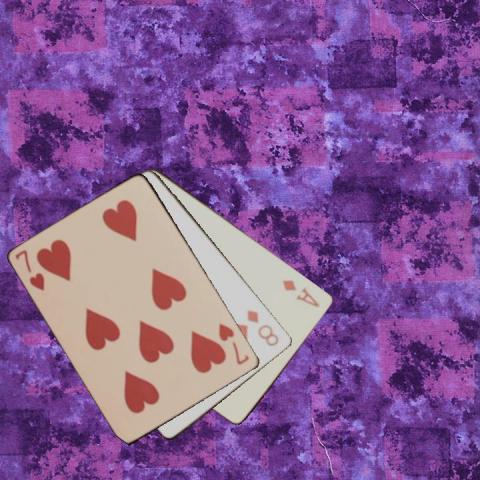7h: (216, 320, 251, 367), (12, 246, 47, 292)
8d: (244, 307, 281, 348)
Ad: (280, 276, 322, 308)
